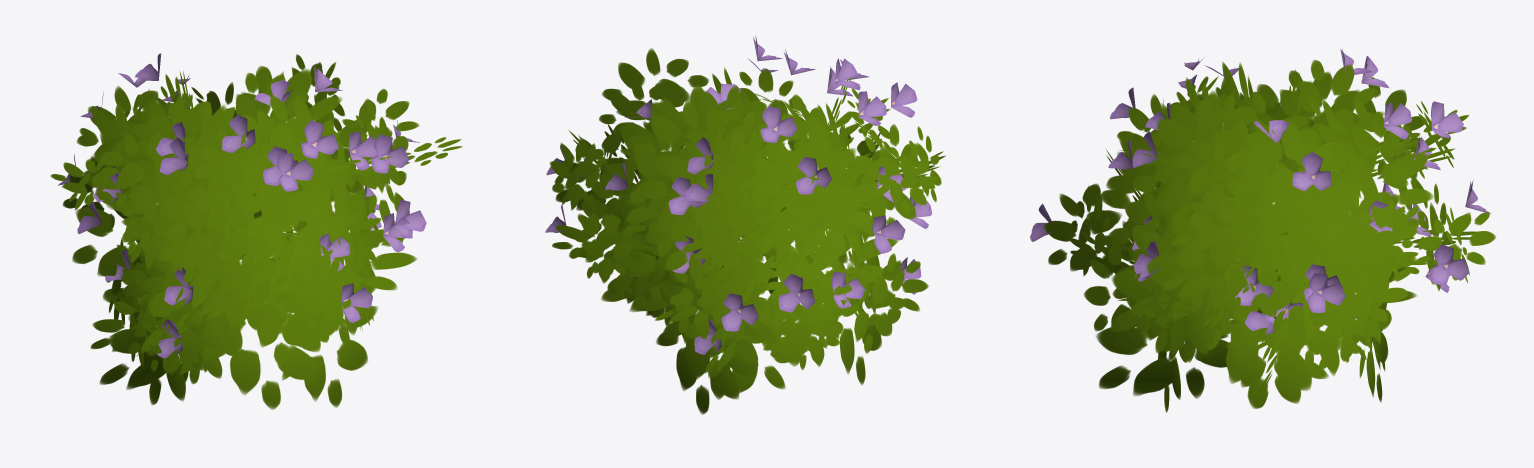
The model's file is bush_flowers.glb.
The picture shows the model from 3 angles, left to right: view 1: azimuth 30°, elevation 25°; view 2: azimuth 150°, elevation 25°; view 3: azimuth 270°, elevation 25°; orthographic projection. The views are drawn at different scales.
Parts seen in each view (by area): view 1: bush_flowers; view 2: bush_flowers; view 3: bush_flowers.
Part boxes in pixels (x1=…): bush_flowers: x1=50, y1=53, x2=462, y2=409; bush_flowers: x1=545, y1=36, x2=945, y2=414; bush_flowers: x1=1030, y1=49, x2=1495, y2=412.
Size of the model in its own units: 1.95 by 1.76 by 2.08.
2 materials, 2 textured.
